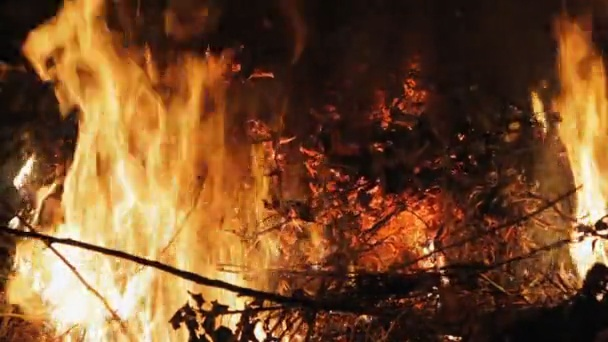fire: (5, 9, 277, 342), (556, 17, 608, 283), (419, 236, 444, 268), (530, 90, 546, 128)
